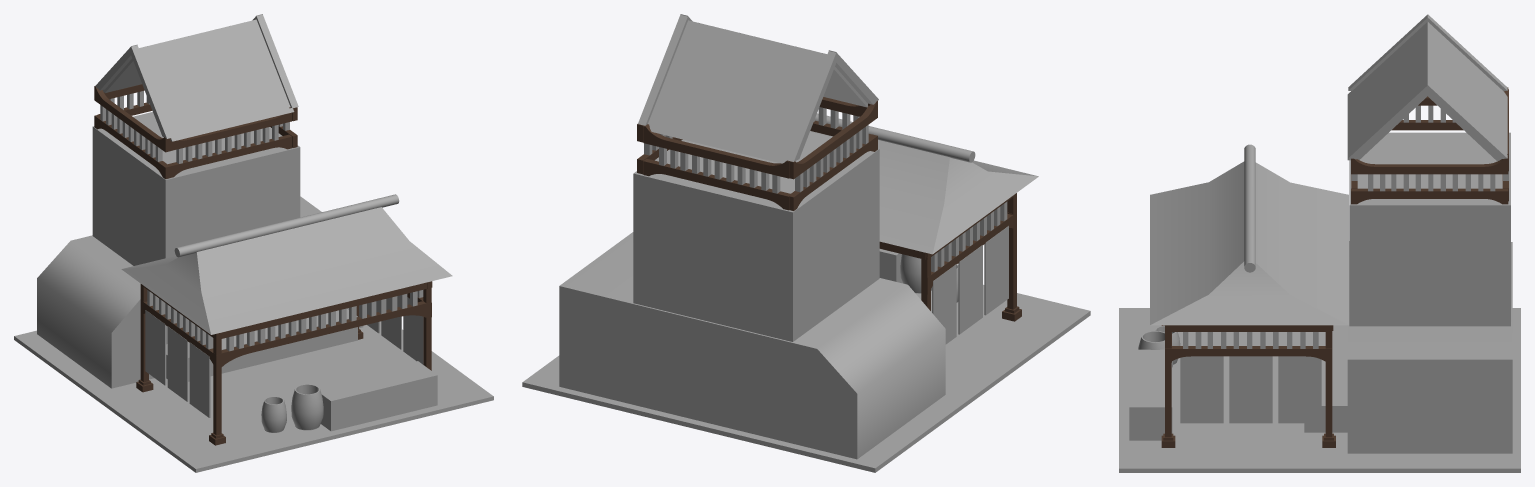
File: Smith.fbx
3 renders of one model, left to right at view 1: azimuth 30°, elevation 25°; view 2: azimuth 150°, elevation 25°; view 3: azimuth 270°, elevation 25°, orthographic. The views are drawn at different scales.
Parts seen in each view (by area): view 1: polySurface12, pCube52, pCube122, pCube120, polySurface25, pCube118, pCube55 (×4), pCube43 (×3), pCube121, pCylinder8, pCube124, pCube123 (+11 smaller); view 2: pCube120, pCube122, polySurface20, pCube52, polySurface12, pCube55 (×3), pCube43 (×2), pCube124, pCube125, pCube123, polySurface21, pCylinder8 (+6 smaller); view 3: polySurface12, pCube122, pCube120, pCube52, polySurface25, polySurface20, pCube118, pCube43 (×2), pCube127, pCube126, pCube128, pCube121 (+10 smaller).
Part boxes in pixels (x1,y1,x2,y2): polySurface12: [121, 207, 452, 334]; pCube52: [14, 321, 493, 472]; pCube122: [92, 112, 300, 265]; pCube120: [37, 196, 363, 388]; polySurface25: [139, 19, 294, 141]; pCube118: [316, 361, 437, 431]; pCube55 (×4): [94, 114, 429, 369]; pCube43 (×3): [94, 86, 426, 338]; pCube121: [166, 308, 357, 381]; pCylinder8: [174, 194, 399, 257]; pCube124: [167, 326, 188, 401]; pCube123: [145, 310, 166, 385]; pCube120: [559, 232, 945, 459]; pCube122: [633, 132, 879, 341]; polySurface20: [648, 20, 827, 163]; pCube52: [522, 284, 1090, 472]; polySurface12: [810, 131, 1038, 254]; pCube55 (×3): [643, 134, 1016, 294]; pCube43 (×2): [643, 100, 877, 179]; pCube124: [958, 245, 982, 334]; pCube125: [984, 226, 1008, 315]; pCube123: [932, 264, 956, 344]; polySurface21: [786, 50, 836, 161]; pCylinder8: [815, 113, 975, 162]; polySurface12: [1150, 161, 1348, 325]; pCube122: [1349, 132, 1510, 326]; pCube120: [1347, 241, 1512, 453]; pCube52: [1119, 308, 1520, 472]; polySurface25: [1347, 22, 1427, 160]; polySurface20: [1427, 22, 1507, 160]; pCube118: [1129, 349, 1172, 440]; pCube43 (×2): [1165, 156, 1508, 331]; pCube127: [1229, 356, 1272, 423]; pCube126: [1180, 356, 1223, 423]; pCube128: [1278, 356, 1321, 423]; pCube121: [1304, 325, 1347, 432].
Bounding box in the file's own units: 43.51 × 42.74 × 45.96.
